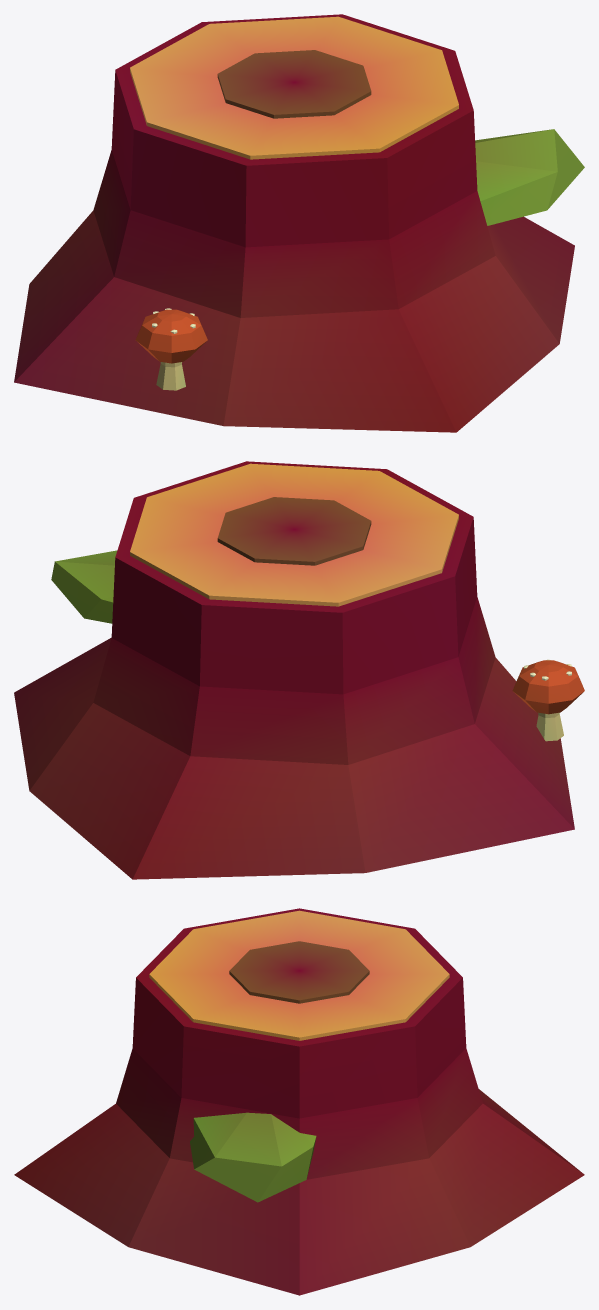
File: Stump_01.glb
3 views of the same model, one above another, from view 1: azimuth 30°, elevation 25°; view 2: azimuth 150°, elevation 25°; view 3: azimuth 270°, elevation 25° (orthographic). The views are drawn at different scales.
Visible parts, largest first — view 1: Stump_01; view 2: Stump_01; view 3: Stump_01.
Part boxes in pixels (left/top/right/bottom): Stump_01: left=14, top=14, right=584, bottom=432; Stump_01: left=14, top=461, right=584, bottom=879; Stump_01: left=14, top=908, right=584, bottom=1295.
Bounding box in the file's own units: 1.23 × 0.486 × 1.23.
